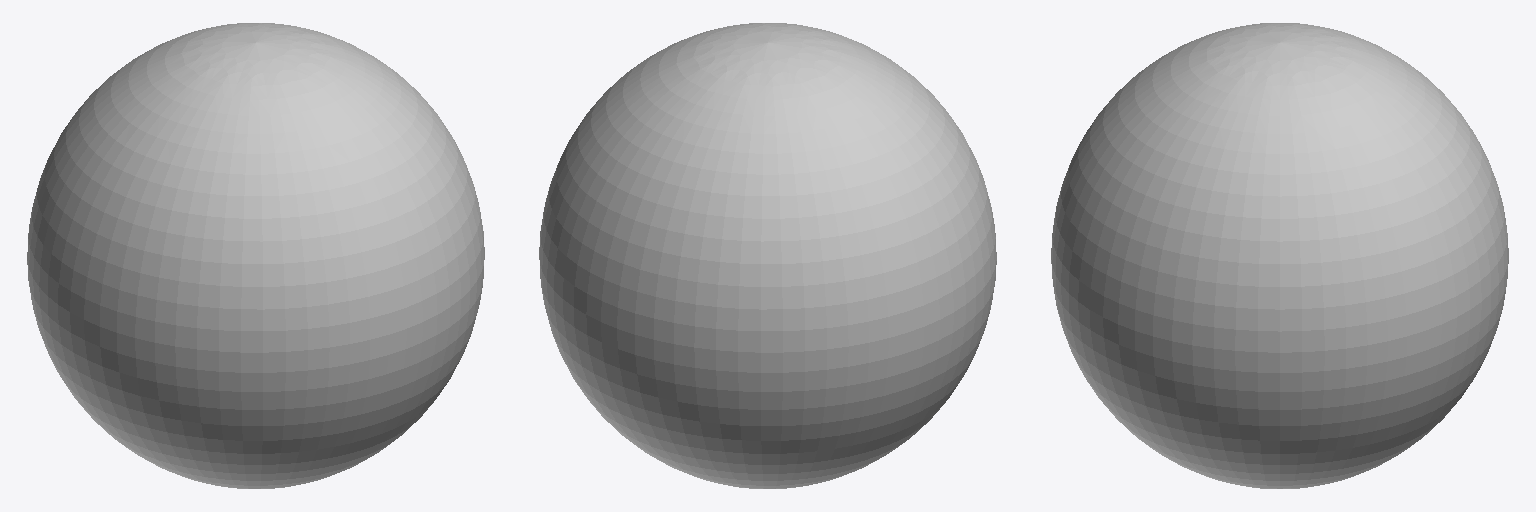
File: mars.obj
3 views of the same model, side by side, from view 1: azimuth 30°, elevation 25°; view 2: azimuth 150°, elevation 25°; view 3: azimuth 270°, elevation 25° (orthographic).
Visible parts, largest first — view 1: Sphere; view 2: Sphere; view 3: Sphere.
Boxes of the visible parts, box(x1,y1,x2,y2) form: Sphere: box(27, 23, 484, 488); Sphere: box(539, 23, 996, 488); Sphere: box(1051, 23, 1508, 488).
Bounding box in the file's own units: 6452 × 6638 × 6452.